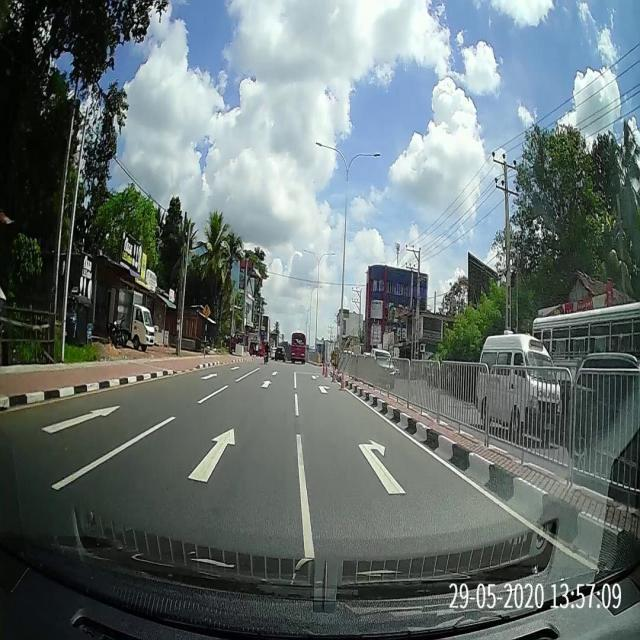Strelka vpered: (36, 405, 124, 436), (186, 428, 235, 483), (198, 373, 218, 381), (260, 379, 272, 388)
Strelka vpravo: (358, 437, 409, 496), (318, 384, 332, 394)
